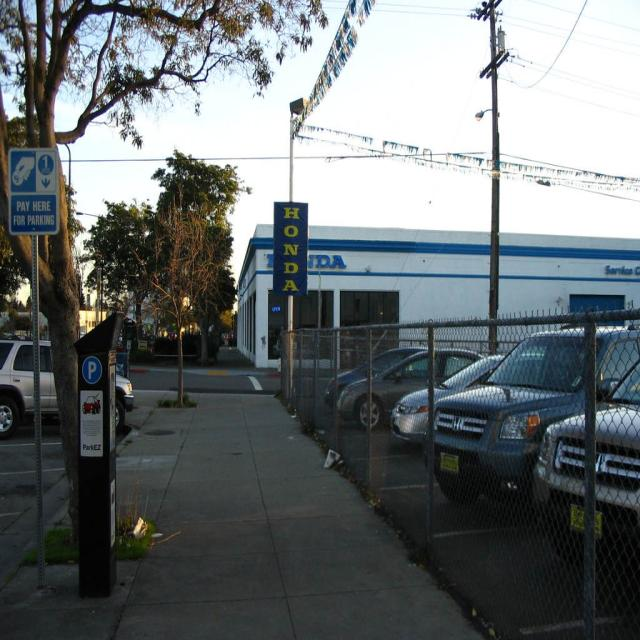car: (320, 324, 639, 583), (0, 337, 134, 442)
